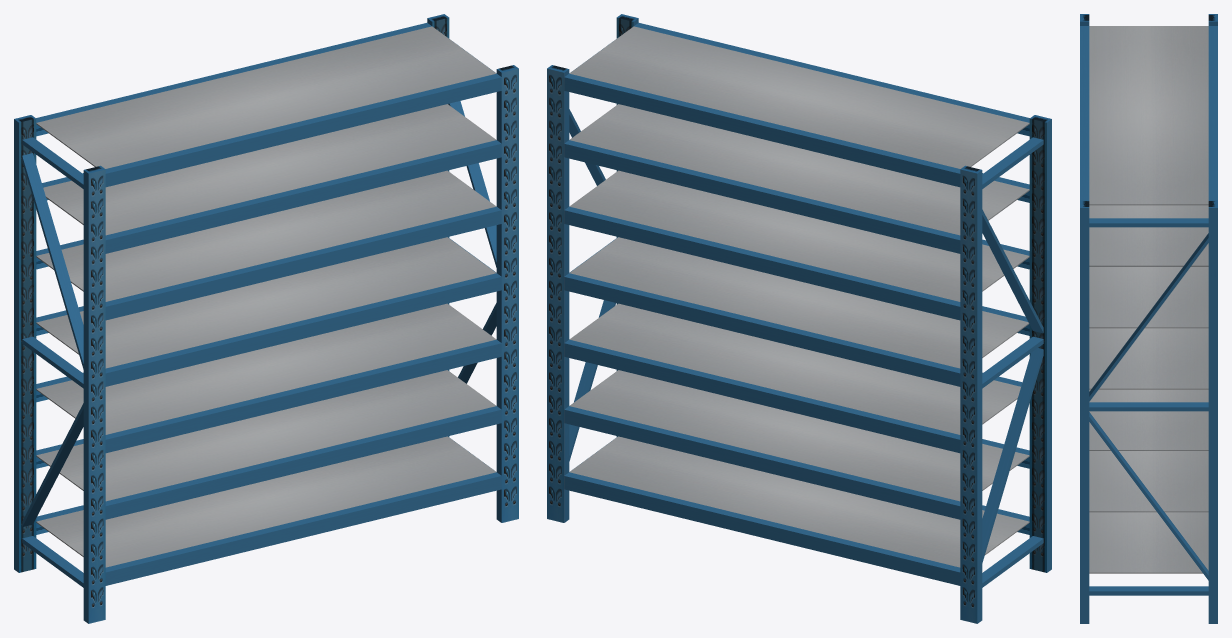
File: myModel.obj
3 renders of one model, left to right at view 1: azimuth 30°, elevation 25°; view 2: azimuth 150°, elevation 25°; view 3: azimuth 270°, elevation 25°, orthographic. The views are drawn at different scales.
Parts seen in each view (by area): view 1: Mesh0; view 2: Mesh0; view 3: Mesh0.
Boxes of the visible parts, bbox=[...] form: Mesh0: bbox=[14, 14, 518, 623]; Mesh0: bbox=[547, 14, 1051, 623]; Mesh0: bbox=[1080, 14, 1217, 623].
Size of the model in its own units: 2000 by 2000 by 600.
Materials: 1 (1 with a texture image).
